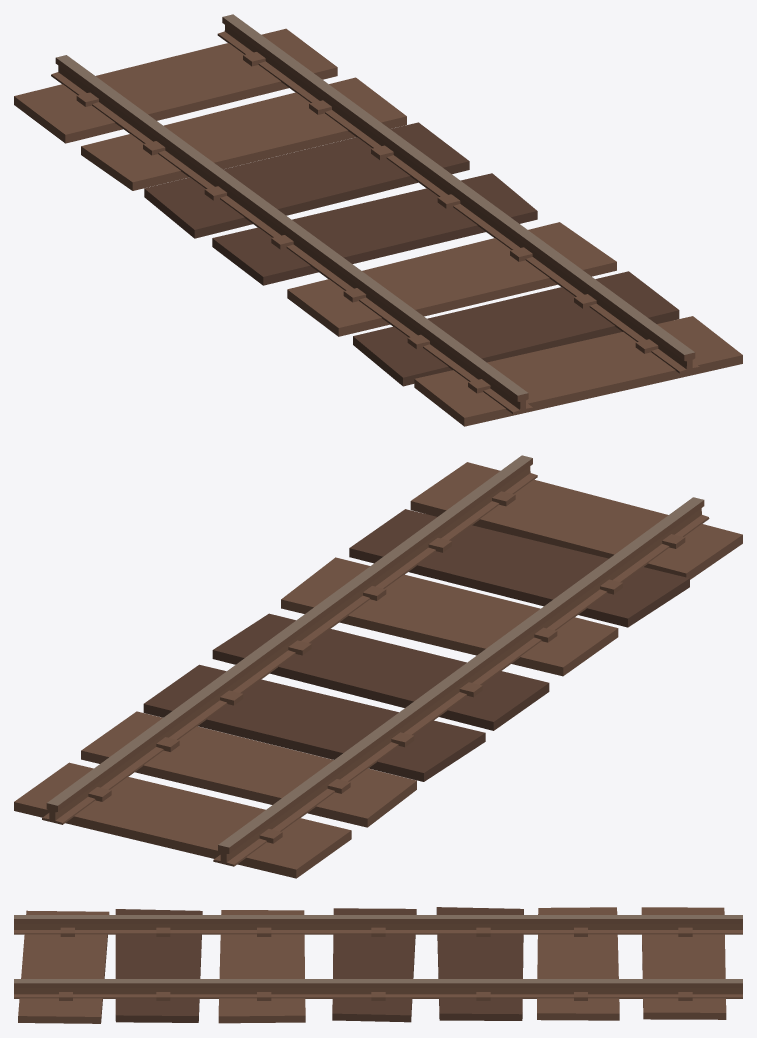
Rendered from Mines Car Track 3M V2.glb.
The picture shows the model from 3 angles, top to bottom: view 1: azimuth 30°, elevation 25°; view 2: azimuth 150°, elevation 25°; view 3: azimuth 270°, elevation 25°; orthographic projection. The views are drawn at different scales.
Parts seen in each view (by area): view 1: Mines Car Track 3M v2; view 2: Mines Car Track 3M v2; view 3: Mines Car Track 3M v2.
Boxes of the visible parts, <box> form: Mines Car Track 3M v2: <box>14,14,742,426</box>; Mines Car Track 3M v2: <box>14,455,742,878</box>; Mines Car Track 3M v2: <box>14,907,742,1023</box>.
Size of what is drawn, in the model's own units: 1.07 by 0.092 by 3.
Materials: 1 (1 with a texture image).
